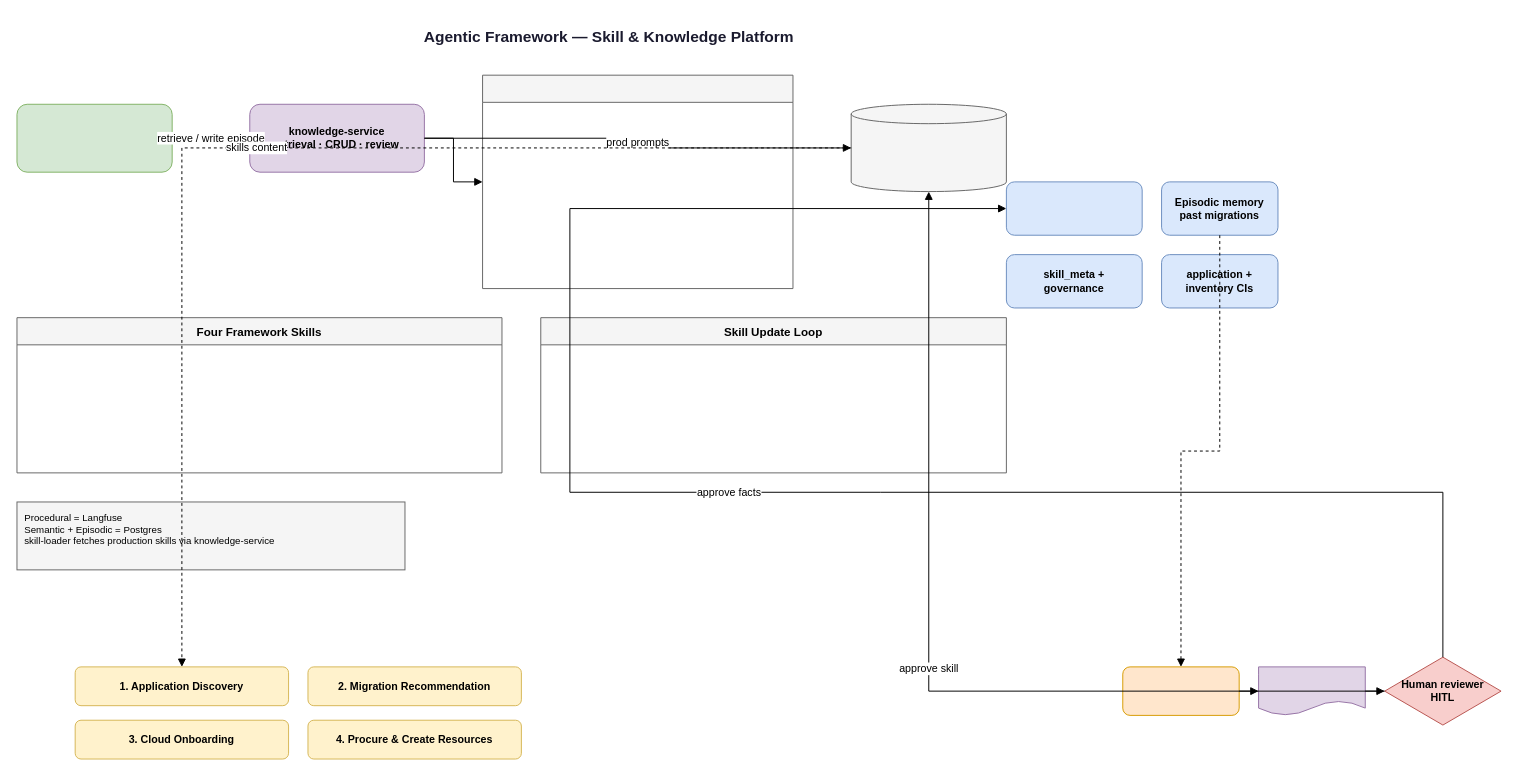
This 1518x776 diagram has some shape labels left out. The centre of each missing label's shape, as x and y in pixels:
agent-orchestrator + runners (agents): the point at 94,137
change_request: the point at 1311,690
Langfuse PROCEDURAL skills (production label): the point at 928,147
Postgres + pgvector: the point at 637,181
Reflection mine episodes: the point at 1180,690
Semantic memory org facts · standards: the point at 1073,208
